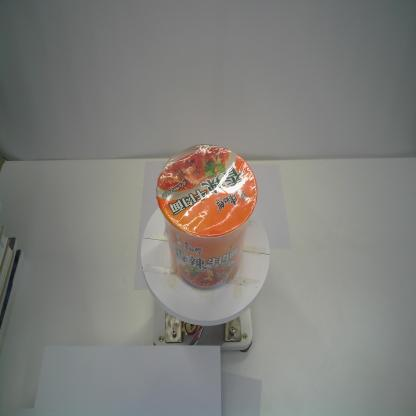Instant Noodles: (156, 142, 258, 294)
